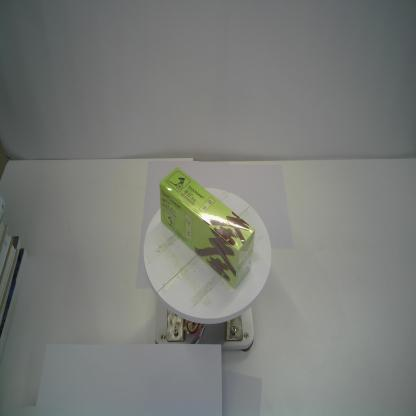Instant Drink: (159, 166, 255, 290)
